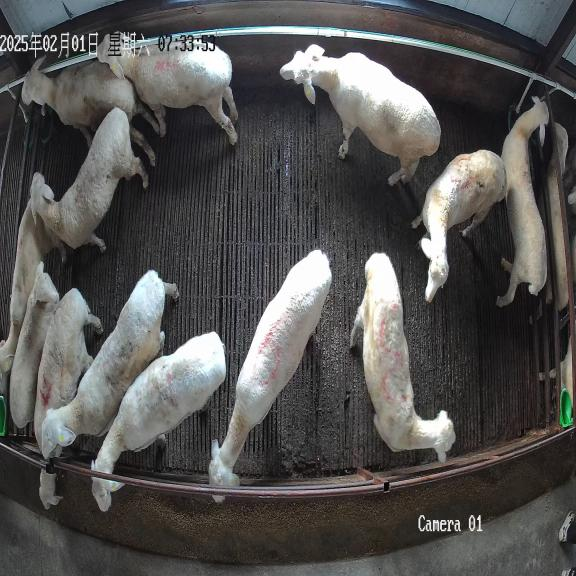eating: (34, 288, 102, 508)
stand: (208, 250, 331, 502), (42, 270, 178, 459), (91, 332, 226, 512), (280, 44, 441, 186), (351, 253, 455, 461), (30, 108, 148, 253), (98, 35, 239, 147), (411, 150, 506, 302), (21, 61, 160, 147), (0, 198, 66, 377), (496, 97, 549, 306), (9, 262, 59, 428)
